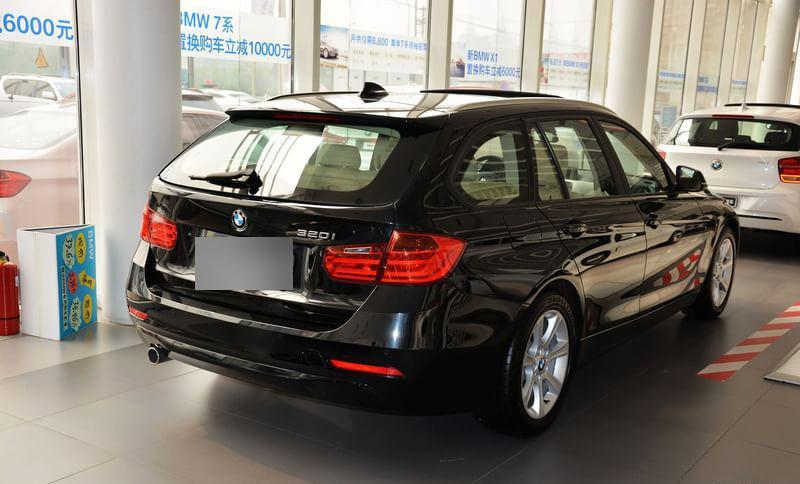Wagon: (123, 80, 740, 438)
